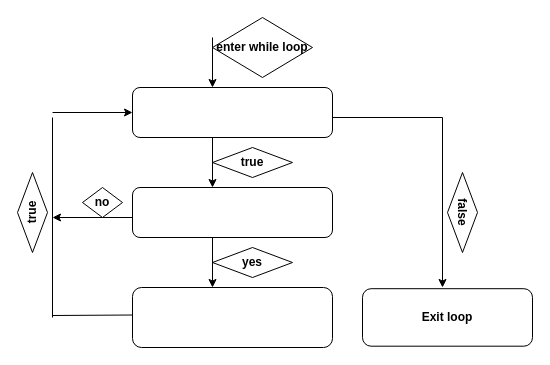
Image size: 550x365. Some labels were removed from this diagram. Each missing label, with the box of its shape:
Continue: (132, 186, 332, 238)
Remaining loop: (132, 286, 332, 348)
Test condition: (132, 86, 332, 138)
